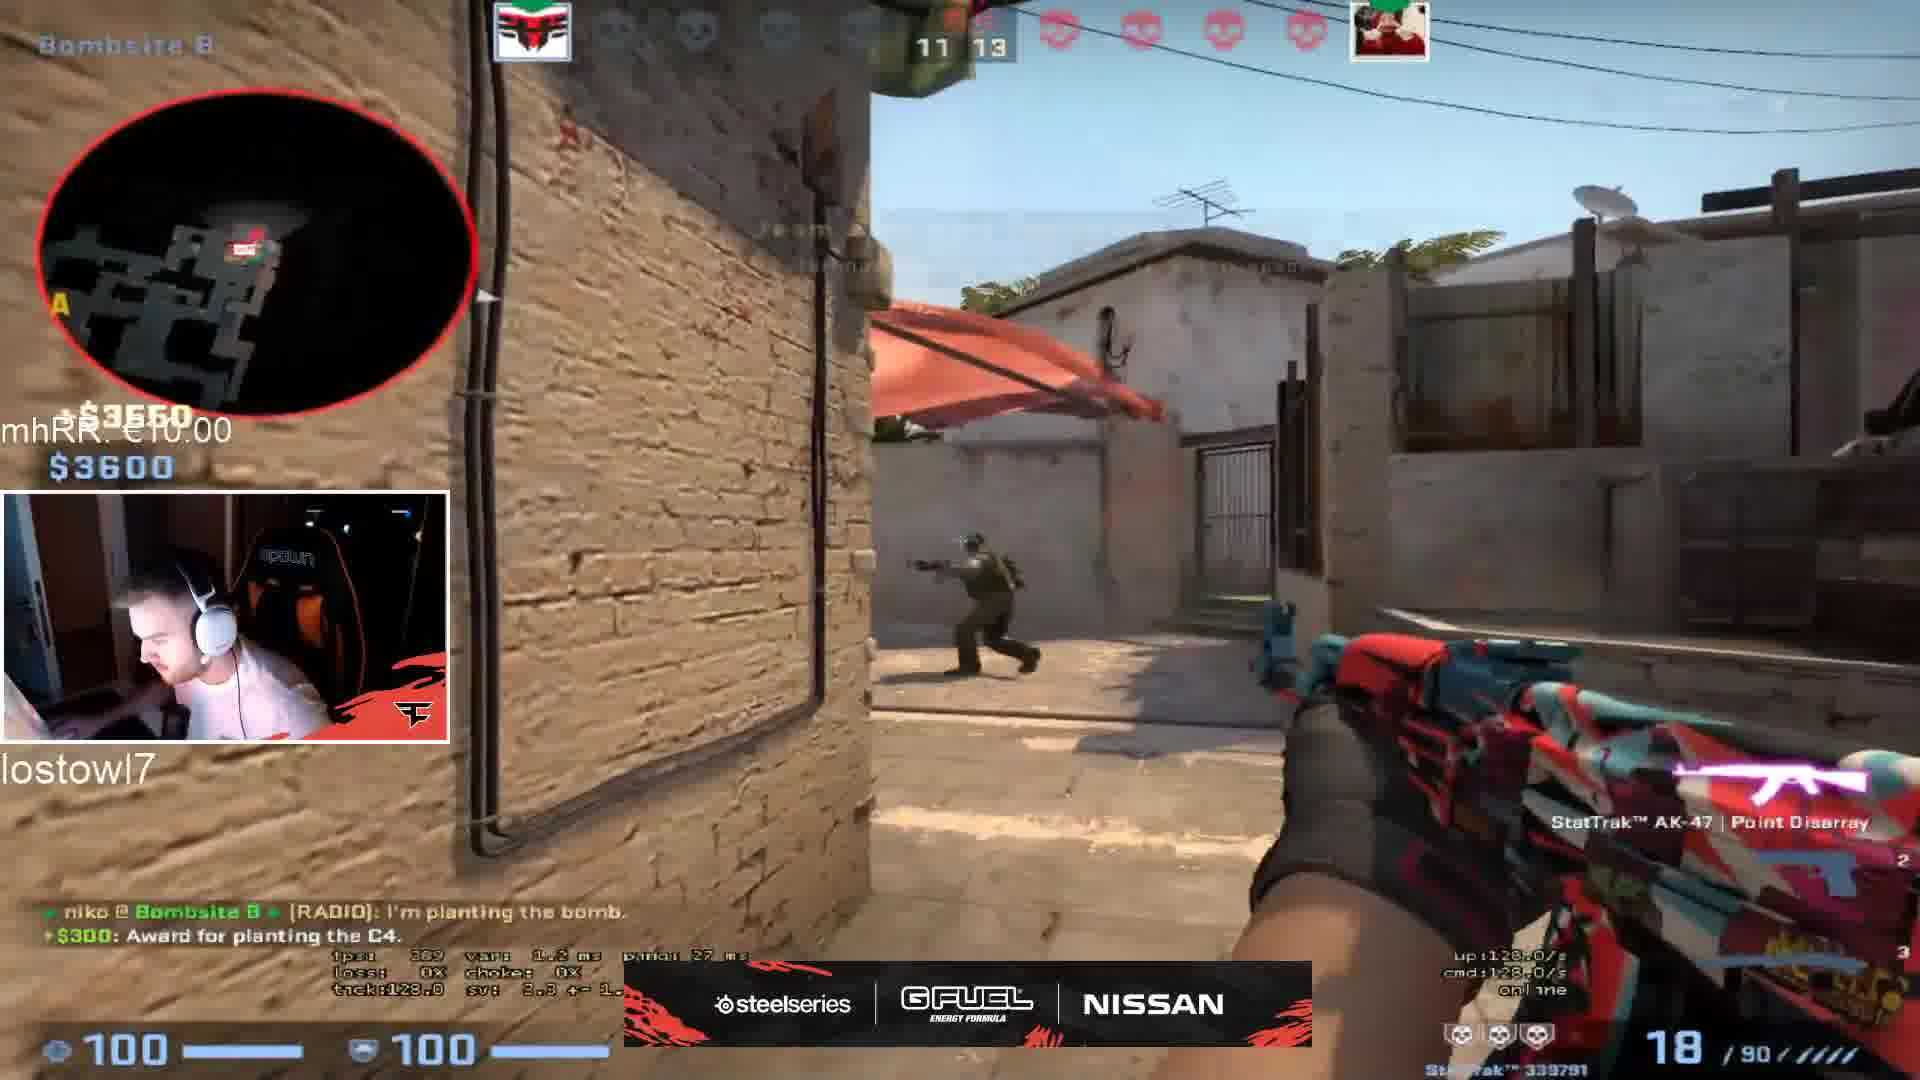enemy: (905, 516, 1043, 684)
